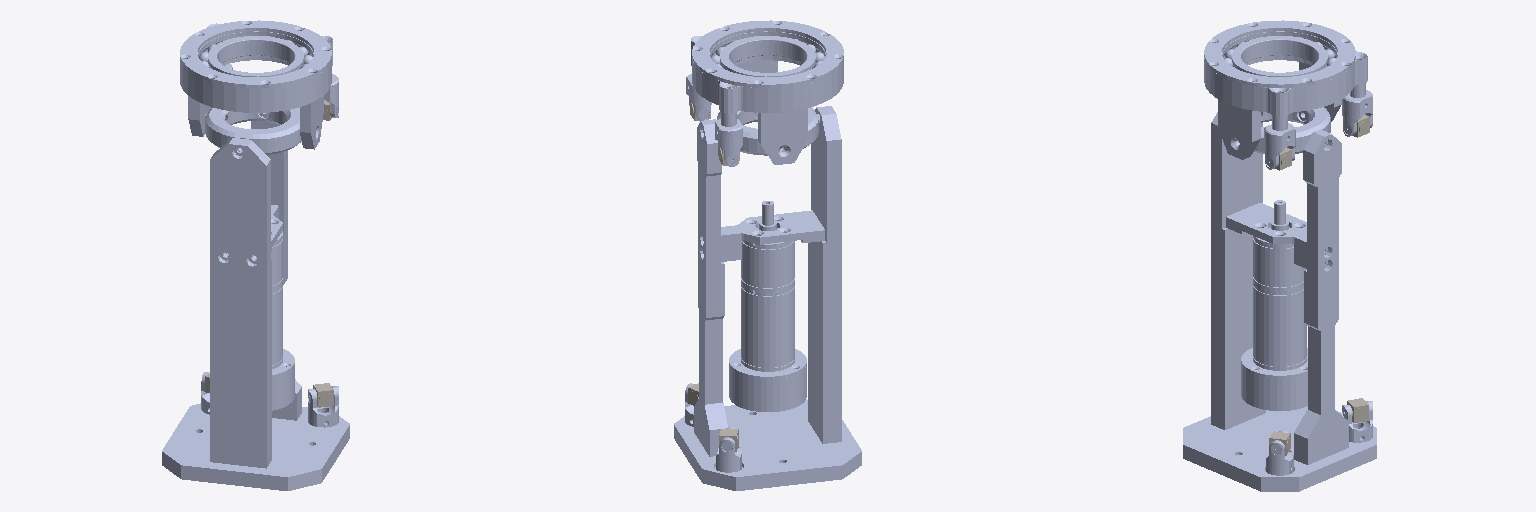
URDF robot description (air_wrist_ros):
<?xml version="1.0" encoding="utf-8" ?>
<!-- This URDF was automatically created by SolidWorks to URDF Exporter! Originally created by [author] ([email redacted]) 
     Commit Version: 1.5.1-0-g916b5db  Build Version: 1.5.7152.31018
     For more information, please see http://wiki.ros.org/sw_urdf_exporter -->
<robot name="air_wrist_ros">

<!-- Used for fixing robot to Gazebo 'base_link'-->
<link name="world"/>

<joint name="fixed" type="fixed">
  <parent link="world"/>
  <child link="base_link"/>
  <origin xyz="0 0 1" rpy="-1.5708 0 0" />
</joint>

<link name="base_link">
        
<inertial>
            <origin xyz="-0.0025061 -0.0025058 0.064711" rpy="0 0 0" />
            <mass value="0.18492" />
            <inertia ixx="0.00023882" ixy="1.6596E-06" ixz="3.7747E-07" iyy="0.00023882" iyz="3.7901E-07" izz="6.8442E-05" />
        </inertial>

        <visual>
            <origin xyz="0 0 0" rpy="0 0 0" />
            <geometry>
                <mesh filename="package://air_wrist_ros/meshes/base_link.STL" />
            </geometry>
            <material name="">
                <color rgba="0.79216 0.81961 0.93333 1" />
            </material>
        </visual>
        <collision>
            <origin xyz="0 0 0" rpy="0 0 0" />
            <geometry>
                <mesh filename="package://air_wrist_ros/meshes/base_link.STL" />
            </geometry>
        </collision>
    </link>
    <link name="base_x">
        
        <inertial>
            <origin xyz="3.4694E-18 -7.6328E-17 3.2092E-16" rpy="0 0 0" />
            <mass value="0.0057459" />
            <inertia ixx="7.8242E-08" ixy="-1.0796E-22" ixz="-4.0384E-23" iyy="7.6638E-08" iyz="6.4201E-10" izz="7.5896E-08" />
        </inertial>

        <visual>
            <origin xyz="0 0 0" rpy="0 0 0" />
            <geometry>
                <mesh filename="package://air_wrist_ros/meshes/base_x.STL" />
            </geometry>
            <material name="">
                <color rgba="0.77647 0.75686 0.73725 1" />
            </material>
        </visual>
        <collision>
            <origin xyz="0 0 0" rpy="0 0 0" />
            <geometry>
                <mesh filename="package://air_wrist_ros/meshes/base_x.STL" />
            </geometry>
        </collision>
    </link>
    <joint name="base_xj" type="fixed">
        <origin xyz="0.04 -0.0225 0" rpy="2.8798 0 1.5708" />
        <parent link="base_link" />
        <child link="base_x" />
        <axis xyz="0 0 0" />
    </joint>
    <link name="base_y">
        
<inertial>
            <origin xyz="1.0408E-17 -4.7878E-16 -1.112E-15" rpy="0 0 0" />
            <mass value="0.0057459" />
            <inertia ixx="7.8242E-08" ixy="-1.8379E-17" ixz="1.4312E-17" iyy="7.7008E-08" iyz="-8.9423E-13" izz="7.5526E-08" />
        </inertial>

        <visual>
            <origin xyz="0 0 0" rpy="0 0 0" />
            <geometry>
                <mesh filename="package://air_wrist_ros/meshes/base_y.STL" />
            </geometry>
            <material name="">
                <color rgba="0.77647 0.75686 0.73725 1" />
            </material>
        </visual>
        <collision>
            <origin xyz="0 0 0" rpy="0 0 0" />
            <geometry>
                <mesh filename="package://air_wrist_ros/meshes/base_y.STL" />
            </geometry>
        </collision>
    </link>
    <joint name="base_yj" type="fixed">
        <origin xyz="0 -0.0225 0.04" rpy="1.9641 0 -1.5708" />
        <parent link="base_link" />
        <child link="base_y" />
        <axis xyz="0 0 0" />
    </joint>
    <link name="roll_cardan">
        
<inertial>
            <origin xyz="1.4118E-08 -1.4882E-08 1.9978E-08" rpy="0 0 0" />
            <mass value="0.013068" />
            <inertia ixx="3.0076E-06" ixy="2.5944E-12" ixz="3.3722E-12" iyy="3.0076E-06" iyz="-1.7367E-14" izz="5.7134E-06" />
        </inertial>

        <visual>
            <origin xyz="0 0 0" rpy="0 0 0" />
            <geometry>
                <mesh filename="package://air_wrist_ros/meshes/roll_cardan.STL" />
            </geometry>
            <material name="">
                <color rgba="0.79216 0.81961 0.93333 1" />
            </material>
        </visual>
        <collision>
            <origin xyz="0 0 0" rpy="0 0 0" />
            <geometry>
                <mesh filename="package://air_wrist_ros/meshes/roll_cardan.STL" />
            </geometry>
        </collision>
    </link>
    <joint name="roll_j" type="revolute">
        <origin xyz="0 -0.1845 0" rpy="1.5708 -0.7854 0" />
        <parent link="base_link" />
        <child link="roll_cardan" />
        <axis xyz="1 0 0" />
        <limit lower="-0.5235" upper="0.5235" effort="0" velocity="0" />
    </joint>
    <link name="top_pitch">
        
<inertial>
            <origin xyz="0.0019886 0.0019886 0.027456" rpy="0 0 0" />
            <mass value="0.056375" />
            <inertia ixx="2.3625E-05" ixy="-3.3938E-07" ixz="-2.6419E-08" iyy="2.3625E-05" iyz="-2.6417E-08" izz="4.4801E-05" />
        </inertial>

        <visual>
            <origin xyz="0 0 0" rpy="0 0 0" />
            <geometry>
                <mesh filename="package://air_wrist_ros/meshes/top_pitch.STL" />
            </geometry>
            <material name="">
                <color rgba="0.79216 0.81961 0.93333 1" />
            </material>
        </visual>
        <collision>
            <origin xyz="0 0 0" rpy="0 0 0" />
            <geometry>
                <mesh filename="package://air_wrist_ros/meshes/top_pitch.STL" />
            </geometry>
        </collision>
    </link>
    <joint name="pitch_j" type="revolute">
        <origin xyz="0 0 0" rpy="0 0 -0.7854" />
        <parent link="roll_cardan" />
        <child link="top_pitch" />
        <axis xyz="0.70711 -0.70711 0" />
        <limit lower="-0.5235" upper="0.5235" effort="0" velocity="0" />
    </joint>
    <link name="top_x">
        
<inertial>
            <origin xyz="0 -1.7035E-15 -1.7417E-15" rpy="0 0 0" />
            <mass value="0.0057459" />
            <inertia ixx="7.8242E-08" ixy="4.4796E-23" ixz="8.0996E-23" iyy="7.5526E-08" iyz="-5.6248E-23" izz="7.7008E-08" />
        </inertial>

        <visual>
            <origin xyz="0 0 0" rpy="0 0 0" />
            <geometry>
                <mesh filename="package://air_wrist_ros/meshes/top_x.STL" />
            </geometry>
            <material name="">
                <color rgba="0.77647 0.75686 0.73725 1" />
            </material>
        </visual>
        <collision>
            <origin xyz="0 0 0" rpy="0 0 0" />
            <geometry>
                <mesh filename="package://air_wrist_ros/meshes/top_x.STL" />
            </geometry>
        </collision>
    </link>
    <joint name="top_xj" type="fixed">
        <origin xyz="0.04 0 0" rpy="2.3562 1.5708 0" />
        <parent link="top_pitch" />
        <child link="top_x" />
        <axis xyz="0 0 0" />
    </joint>
    <link name="top_y">
        
<inertial>
            <origin xyz="5.5511E-17 -2.158E-15 2.1684E-15" rpy="0 0 0" />
            <mass value="0.0057459" />
            <inertia ixx="7.8242E-08" ixy="9.4579E-23" ixz="1.1731E-22" iyy="7.5526E-08" iyz="-2.647E-23" izz="7.7008E-08" />
        </inertial>

        <visual>
            <origin xyz="0 0 0" rpy="0 0 0" />
            <geometry>
                <mesh filename="package://air_wrist_ros/meshes/top_y.STL" />
            </geometry>
            <material name="">
                <color rgba="0.77647 0.75686 0.73725 1" />
            </material>
        </visual>
        <collision>
            <origin xyz="0 0 0" rpy="0 0 0" />
            <geometry>
                <mesh filename="package://air_wrist_ros/meshes/top_y.STL" />
            </geometry>
        </collision>
    </link>
    <joint name="top_yj" type="fixed">
        <origin xyz="0 0.04 0" rpy="2.3562 1.5708 0" />
        <parent link="top_pitch" />
        <child link="top_y" />
        <axis xyz="0 0 0" />
    </joint>
    <link name="yaw_top">
        
<inertial>
            <origin xyz="0.0027885 -0.0027266 0.10755" rpy="0 0 0" />
            <mass value="0.28988" />
            <inertia ixx="0.00021505" ixy="-2.243E-08" ixz="2.722E-07" iyy="0.0002927" iyz="1.1532E-05" izz="0.00016683" />
        </inertial>

        <visual>
            <origin xyz="0 0 0" rpy="0 0 0" />
            <geometry>
                <mesh filename="package://air_wrist_ros/meshes/yaw_top.STL" />
            </geometry>
            <material name="">
                <color rgba="0.79216 0.81961 0.93333 1" />
            </material>
        </visual>
        <collision>
            <origin xyz="0 0 0" rpy="0 0 0" />
            <geometry>
                <mesh filename="package://air_wrist_ros/meshes/yaw_top.STL" />
            </geometry>
        </collision>
    </link>
    <!--  <joint
    name="yaw_j"
    type="continuous">
    <origin
      xyz="0 0 0.024997"
      rpy="0 0 -2.2473" />
    <parent
      link="top_pitch" />
    <child
      link="yaw_top" />
    <axis
      xyz="0 0 1" />
  </joint>-->
    <joint name="yaw_j" type="revolute">
        <origin xyz="0 0 0.024997" rpy="0 0 -2.2473" />
        <parent link="top_pitch" />
        <child link="yaw_top" />
        <axis xyz="0 0 1" />
        <limit lower="-0.5235" upper="0.5235" effort="0" velocity="0" />
    </joint>
    
    <transmission name="trans_roll_j">
        <type>transmission_interface/SimpleTransmission</type>
        <joint name="roll_j">
            <hardwareInterface>hardware_interface/EffortJointInterface</hardwareInterface>
        </joint>
        <actuator name="roll_j_motor">
            <hardwareInterface>hardware_interface/EffortJointInterface</hardwareInterface>
            <mechanicalReduction>1</mechanicalReduction>
        </actuator>
    </transmission>
    <transmission name="trans_pitch_j">
        <type>transmission_interface/SimpleTransmission</type>
        <joint name="pitch_j">
            <hardwareInterface>hardware_interface/EffortJointInterface</hardwareInterface>
        </joint>
        <actuator name="pitch_j_motor">
            <hardwareInterface>hardware_interface/EffortJointInterface</hardwareInterface>
            <mechanicalReduction>1</mechanicalReduction>
        </actuator>
    </transmission>
    <transmission name="trans_yaw_j">
        <type>transmission_interface/SimpleTransmission</type>
        <joint name="yaw_j">
            <hardwareInterface>hardware_interface/EffortJointInterface</hardwareInterface>
        </joint>
        <actuator name="yaw_j_motor">
            <hardwareInterface>hardware_interface/EffortJointInterface</hardwareInterface>
            <mechanicalReduction>1</mechanicalReduction>
        </actuator>
    </transmission>
    <gazebo>
        <plugin name="gazebo_ros_control" filename="libgazebo_ros_control.so">
            <robotNamespace>/air_wrist</robotNamespace>
            <robotSimType>gazebo_ros_control/DefaultRobotHWSim</robotSimType>
            <legacyModeNS>true</legacyModeNS>
        </plugin>
    </gazebo>
</robot>

--- Render facts (derived) ---
3 views of the same robot in one strip: view 1: azimuth 30°, elevation 25°; view 2: azimuth 150°, elevation 25°; view 3: azimuth 270°, elevation 25° (orthographic).
Robot: air_wrist_ros — 9 links, 8 joints (3 revolute, 5 fixed); root link world; default pose: every joint at zero.
Links seen in each view (by area): view 1: base_link, top_pitch, roll_cardan; view 2: base_link, top_pitch, roll_cardan; view 3: base_link, top_pitch, roll_cardan.
Boxes of the visible links, bbox=[...] form: base_link: bbox=[162, 113, 349, 490]; top_pitch: bbox=[180, 20, 338, 149]; roll_cardan: bbox=[205, 107, 301, 154]; base_link: bbox=[674, 106, 861, 490]; top_pitch: bbox=[686, 20, 843, 166]; roll_cardan: bbox=[717, 107, 818, 155]; base_link: bbox=[1183, 112, 1376, 491]; top_pitch: bbox=[1204, 20, 1372, 169]; roll_cardan: bbox=[1254, 107, 1330, 153].
Bounding box of the posed robot: 0.1 × 0.1 × 0.2255 m (x, y, z).
7 mesh visuals loaded from 8 distinct referenced files (7 binary STL); not drawn: 1 (reference not matched to a file when rendering).
